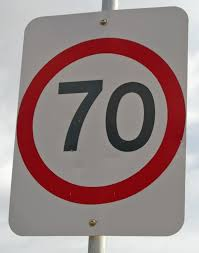Speed_limit_70km: (17, 38, 187, 203)
